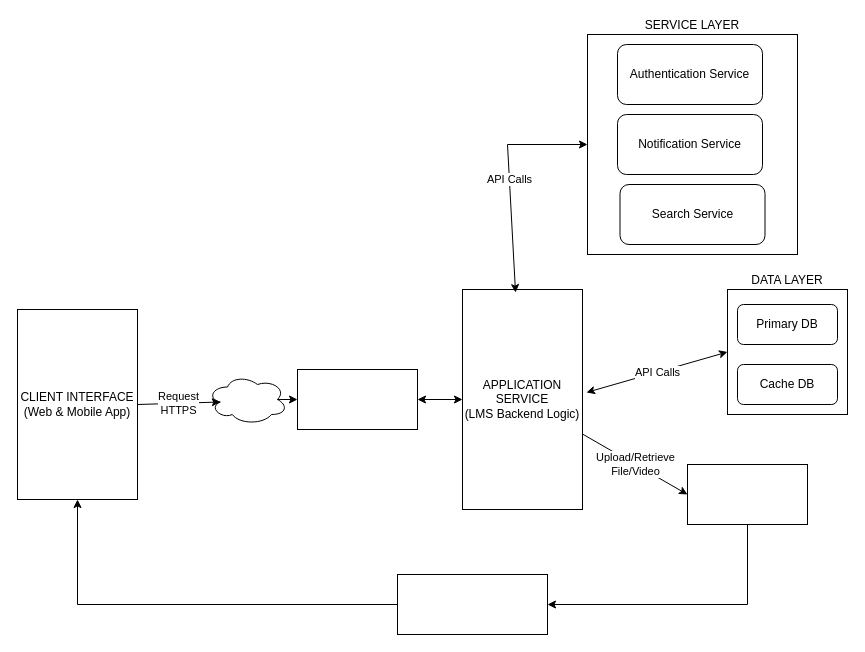
Some shapes in this 865 by 652 pixel diagram are drawn without their labels. The box of each missing label's shape, as (x1, y1, x2, y2) in pixels:
CONTENT DELIVERY NETWORK (CDN): (396, 574, 548, 634)
GLOBAL LOAD BALANCER: (296, 368, 418, 430)
Internet: (206, 374, 288, 424)
VIDEO OBJECT STORAGE: (686, 464, 808, 524)
